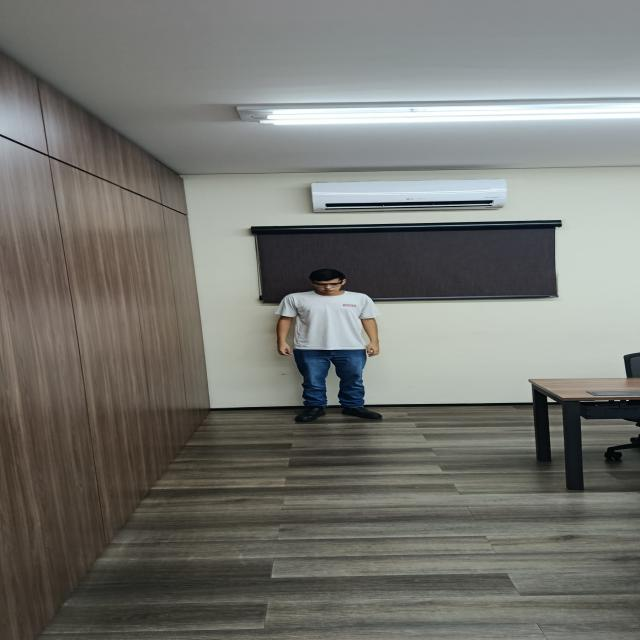oculos-epi: (314, 280, 344, 287)
